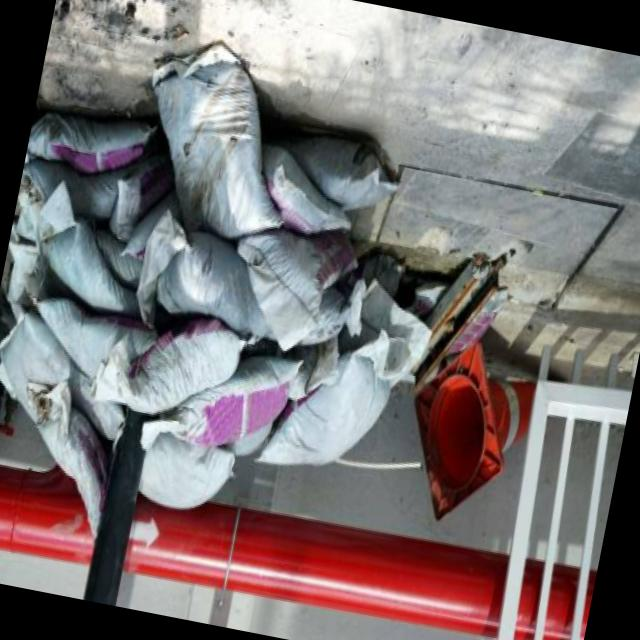KantongSemen: (0, 14, 480, 598)
